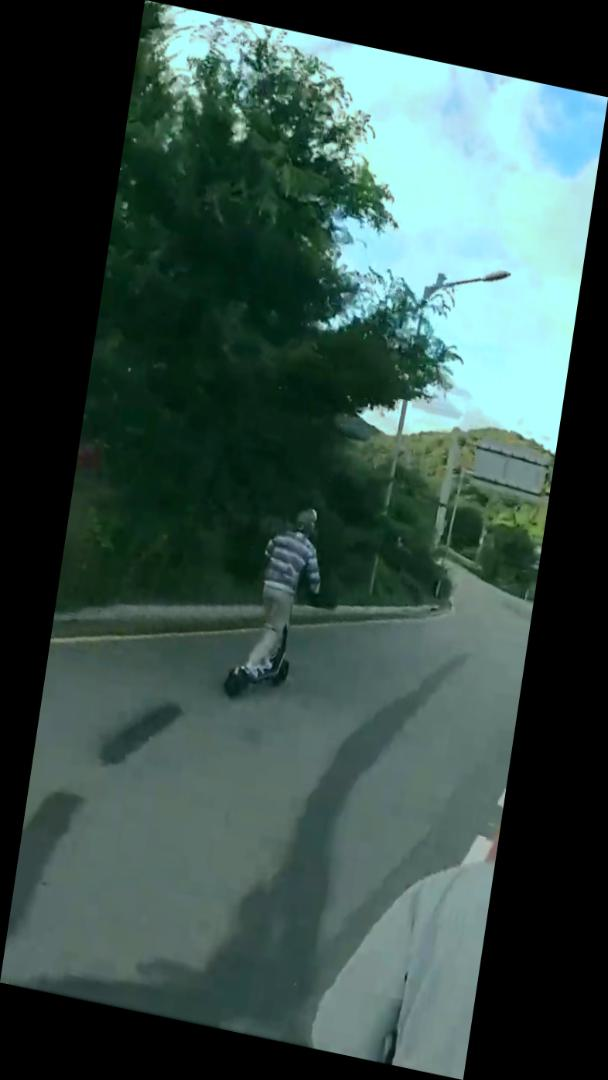helmet: (217, 492, 340, 716)
